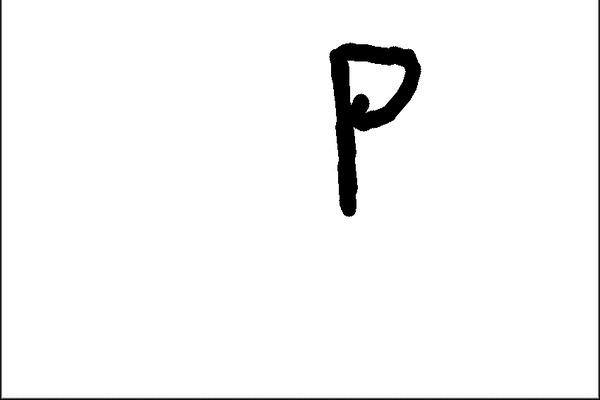P: (318, 34, 425, 217)
